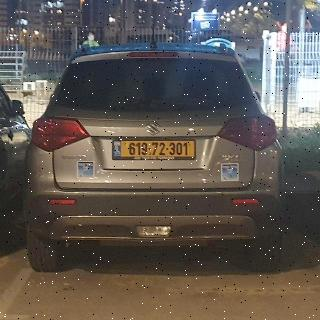LicensePlate: (122, 142, 195, 156)
